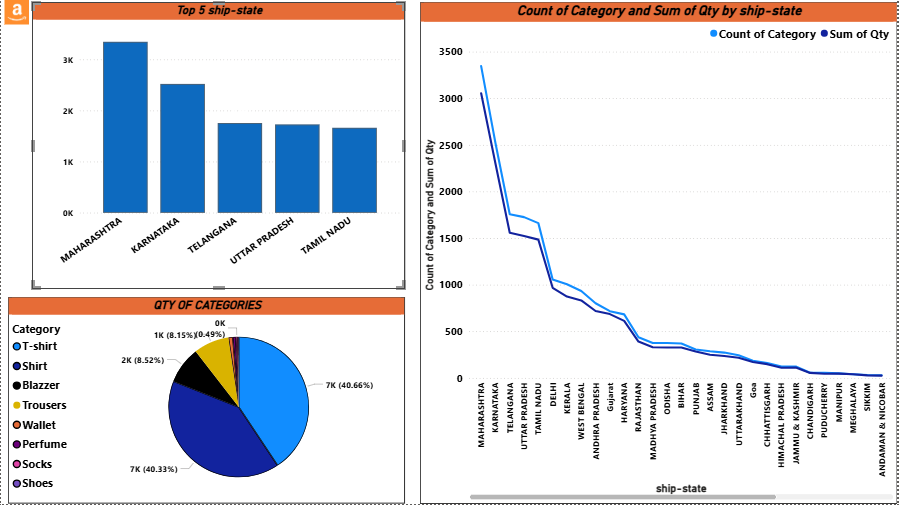

This screenshot's page, from the dashboard's own definition file:
{"tool":"powerbi","page":{"name":"Market Insights","canvas":[1280,720],"ordinal":1},"visuals":[{"type":"image","box":[0,0,44.1,35.3],"z":0},{"type":"clusteredColumnChart","title":"Top 5 ship-state","fields":{"Category":["Amazon Sale Report.ship-state"],"Y":["CountNonNull(Amazon Sale Report.ship-state)"]},"box":[44.1,2.9,533.4,410],"z":1000},{"type":"pieChart","title":"QTY  OF CATEGORIES","fields":{"Category":["Amazon Sale Report.Category"],"Y":["Sum(Amazon Sale Report.Qty)"]},"box":[10.3,424.7,567.2,295.3],"z":2000},{"type":"lineChart","fields":{"Category":["Amazon Sale Report.ship-state"],"Y":["CountNonNull(Amazon Sale Report.Category)","Sum(Amazon Sale Report.Qty)"]},"box":[598,2.9,681.8,717.1],"z":3000}]}

Visuals, with their boxes in screenshot pixels (x1, y1, x2, y2), scaled from the page's 1280x720 canvas onto the 899x505 screenshot:
image: 0, 0, 31, 25
"Top 5 ship-state" clusteredColumnChart: 31, 2, 406, 290
"QTY  OF CATEGORIES" pieChart: 7, 298, 406, 504
lineChart - Amazon Sale Report.ship-state x CountNonNull(Amazon Sale Report.Category): 420, 2, 898, 504
